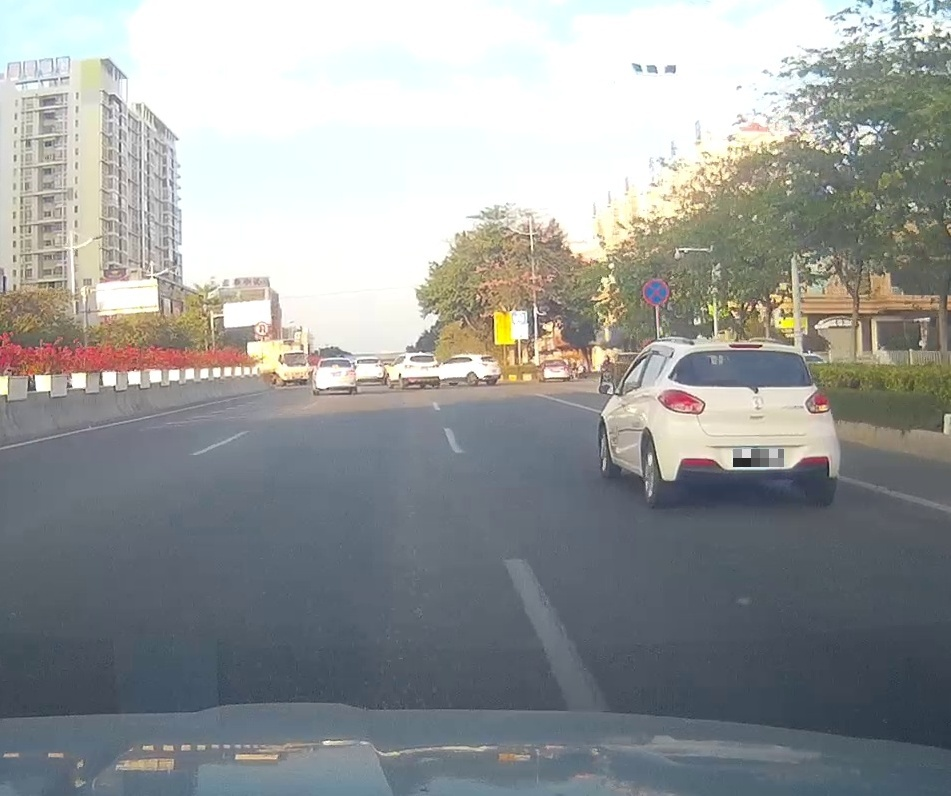L_light: (656, 389, 706, 415)
R_light: (804, 389, 830, 414)
T_light: (728, 344, 763, 349)
day-right: (650, 337, 841, 507)
plate_1: (733, 449, 784, 467)
